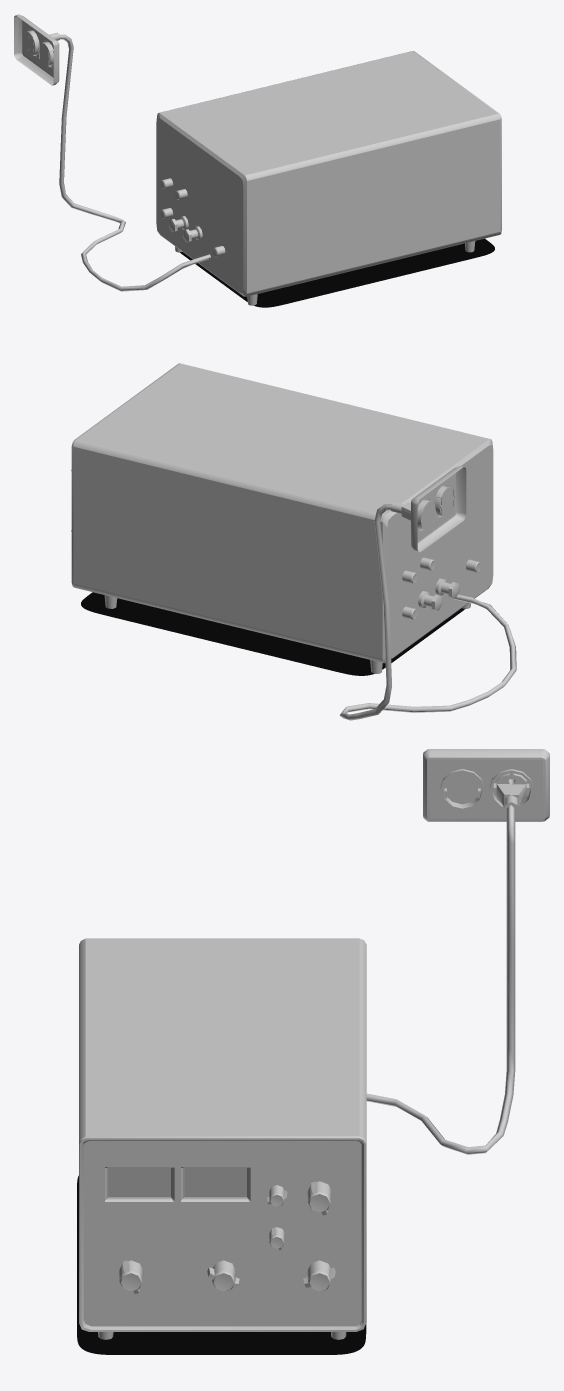
The model's file is antenna_tuner.fbx.
The picture shows the model from 3 angles, top to bottom: view 1: azimuth 30°, elevation 25°; view 2: azimuth 150°, elevation 25°; view 3: azimuth 270°, elevation 25°; orthographic projection. The views are drawn at different scales.
Parts seen in each view (by area): view 1: antenna_tuner, net_cable, shadow; view 2: antenna_tuner, net_cable, shadow; view 3: antenna_tuner, net_cable, shadow, glass.
Part boxes in pixels (box(x1,y1,x2,y2)): antenna_tuner: box(156, 51, 501, 305); net_cable: box(14, 14, 210, 291); shadow: box(180, 238, 494, 307); antenna_tuner: box(71, 363, 493, 673); net_cable: box(339, 466, 516, 720); shadow: box(81, 592, 465, 675); antenna_tuner: box(79, 938, 366, 1339); net_cable: box(366, 749, 549, 1154); shadow: box(77, 1175, 366, 1354); glass: box(107, 1167, 248, 1198).
Size of the model in its own units: 70.17 by 38.77 by 55.21.
